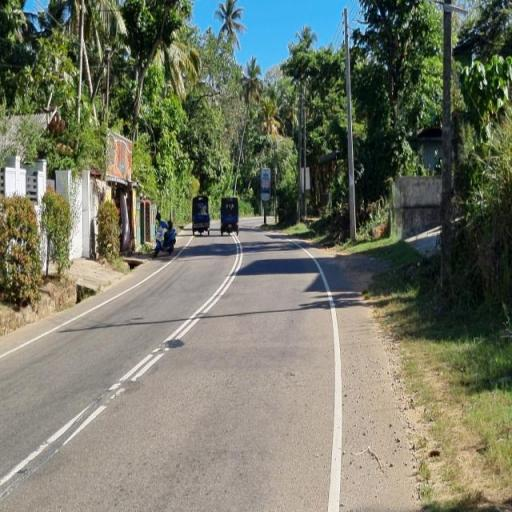double_white_line: (109, 235, 241, 400)
